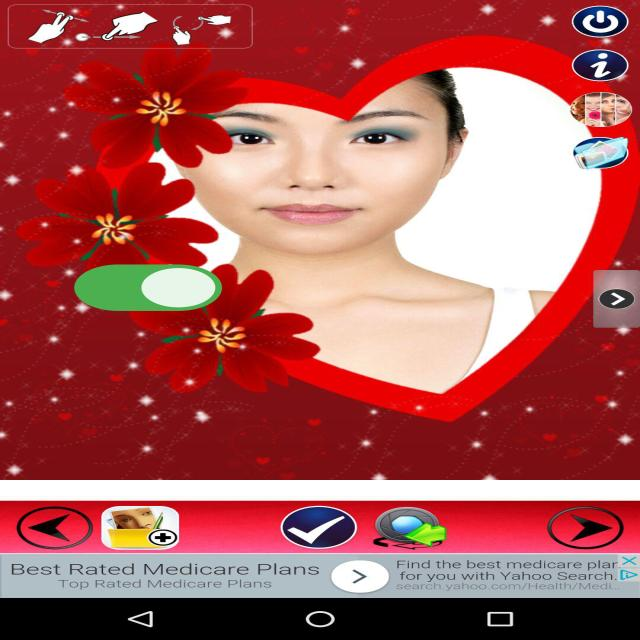social proof: (68, 247, 228, 332)
